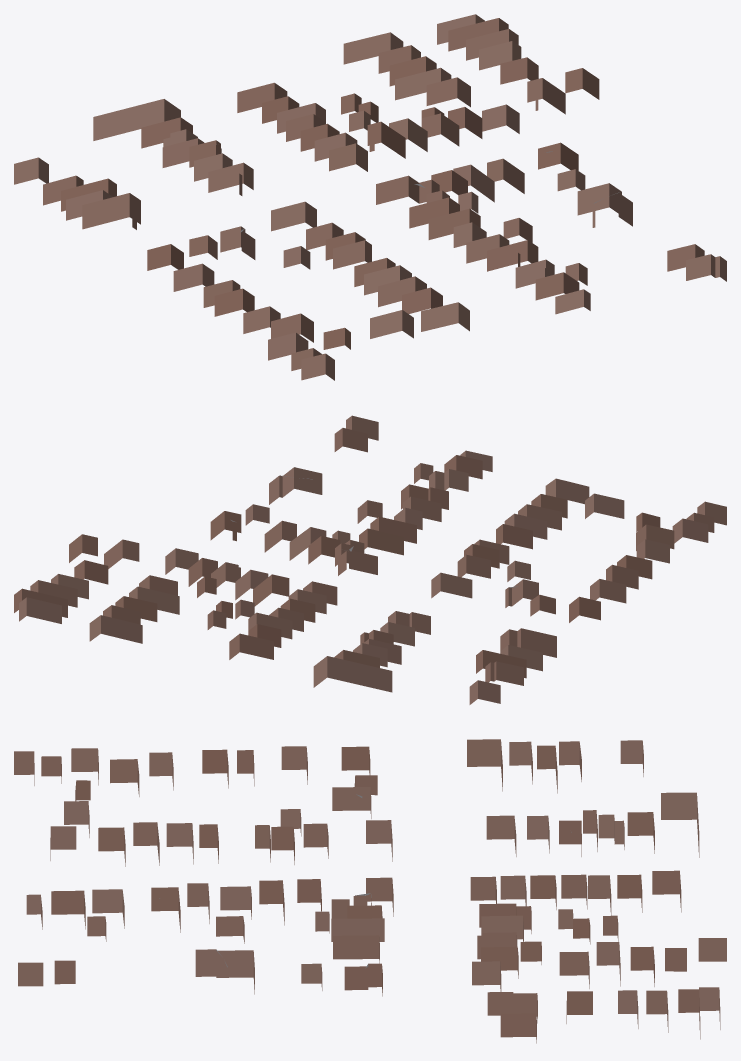
File: c_1633_17823_buildings_residential.glb
The picture shows the model from 3 angles, top to bottom: view 1: azimuth 30°, elevation 25°; view 2: azimuth 150°, elevation 25°; view 3: azimuth 270°, elevation 25°; orthographic projection. The views are drawn at different scales.
Parts seen in each view (by area): view 1: geometry_0; view 2: geometry_0; view 3: geometry_0.
Part boxes in pixels (<box>): geometry_0: <box>14,14,726,380</box>; geometry_0: <box>14,415,726,704</box>; geometry_0: <box>14,739,726,1043</box>.
Bounding box in the file's own units: 248 × 12.18 × 261.
